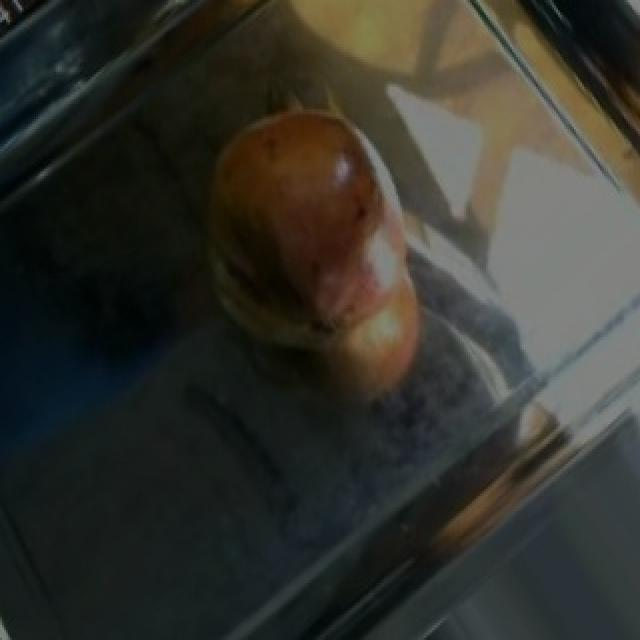fruit: (184, 77, 418, 365)
